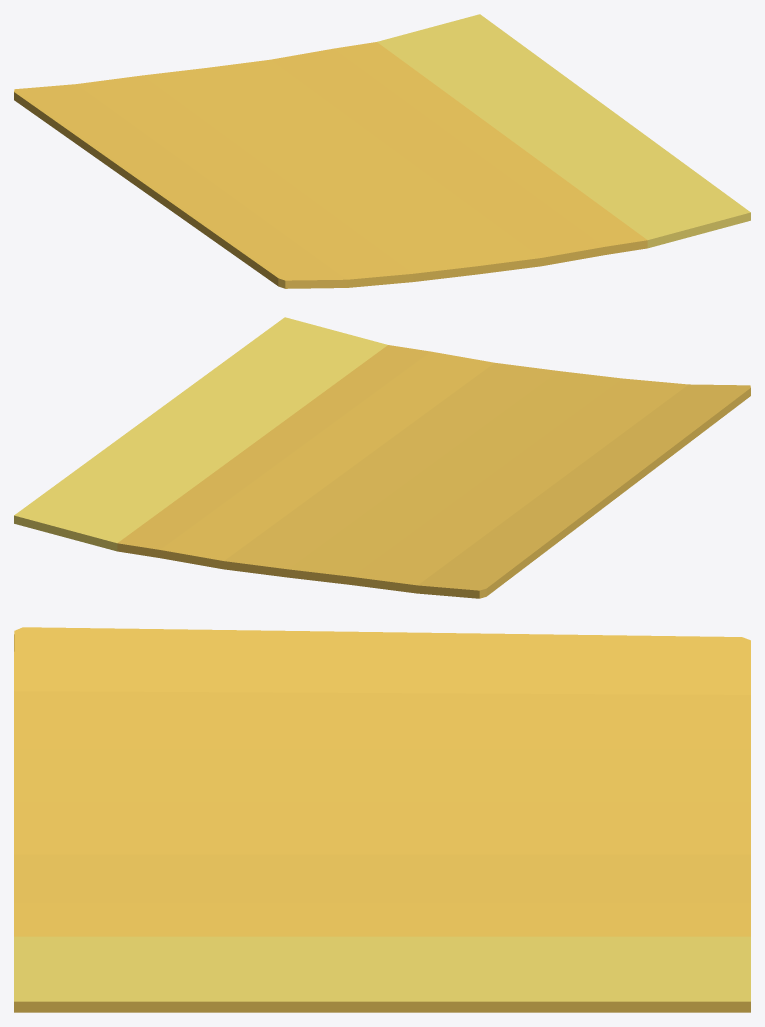
Rendered from Sticky_note 1.fbx.
3 renders of one model, top to bottom at view 1: azimuth 30°, elevation 25°; view 2: azimuth 150°, elevation 25°; view 3: azimuth 270°, elevation 25°, orthographic. The views are drawn at different scales.
Visible parts, largest first — view 1: Cube; view 2: Cube; view 3: Cube.
Part boxes in pixels (<box>): Cube: <box>14,14,750,288</box>; Cube: <box>14,317,750,598</box>; Cube: <box>14,627,750,1012</box>.
Bounding box in the file's own units: 200 × 23.25 × 200.
